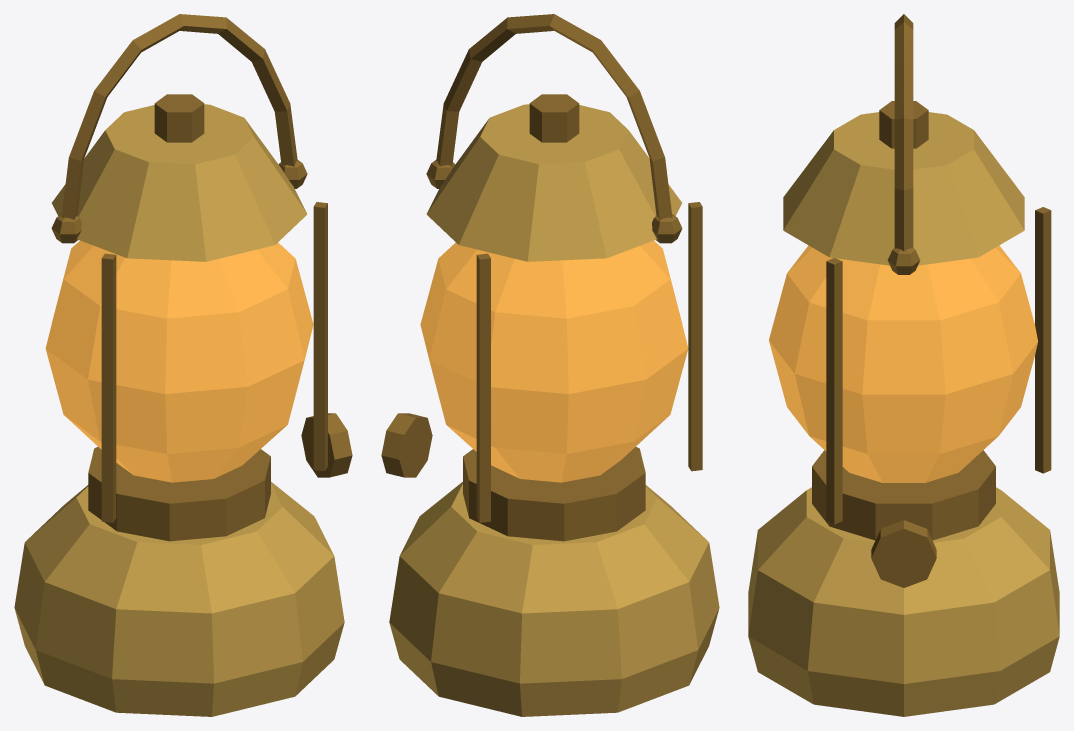
The model's file is oil_lamp.glb.
The picture shows the model from 3 angles, left to right: view 1: azimuth 30°, elevation 25°; view 2: azimuth 150°, elevation 25°; view 3: azimuth 270°, elevation 25°; orthographic projection.
Parts seen in each view (by area): view 1: lamp_body, lamp_glass; view 2: lamp_body, lamp_glass; view 3: lamp_body, lamp_glass.
Part boxes in pixels (left/top/right/bottom): lamp_body: left=14, top=14, right=352, bottom=716; lamp_glass: left=45, top=240, right=313, bottom=482; lamp_body: left=381, top=14, right=719, bottom=716; lamp_glass: left=420, top=240, right=688, bottom=482; lamp_body: left=748, top=14, right=1059, bottom=716; lamp_glass: left=769, top=245, right=1037, bottom=482.
Size of the model in its own units: 0.167 by 0.3395 by 0.1522.
2 materials, 2 textured.
